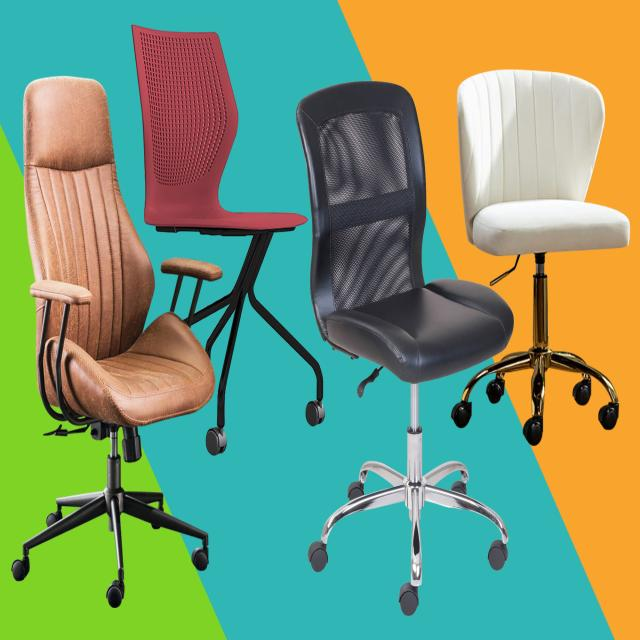chair: (295, 80, 514, 616), (11, 74, 221, 608), (131, 23, 325, 455), (452, 68, 630, 445)
